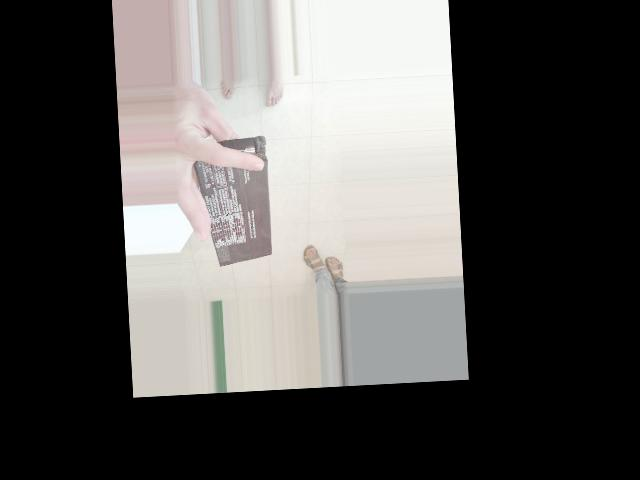chocolate: (206, 151, 344, 231)
